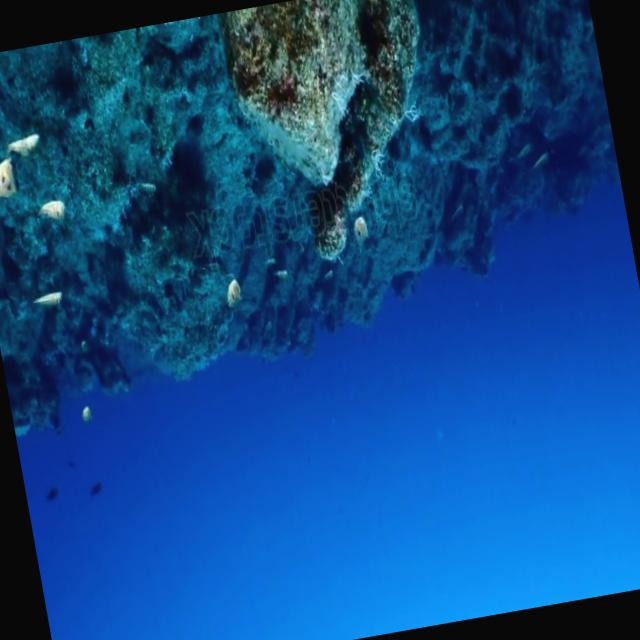Balon Baligi: (30, 178, 73, 238), (24, 274, 76, 320), (346, 204, 376, 256), (220, 270, 249, 314)
